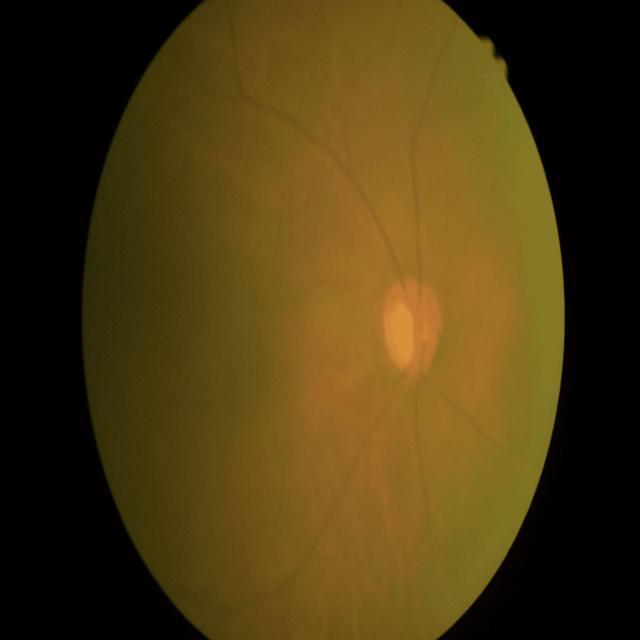cup: (388, 294, 425, 369)
disk: (383, 276, 444, 378)
